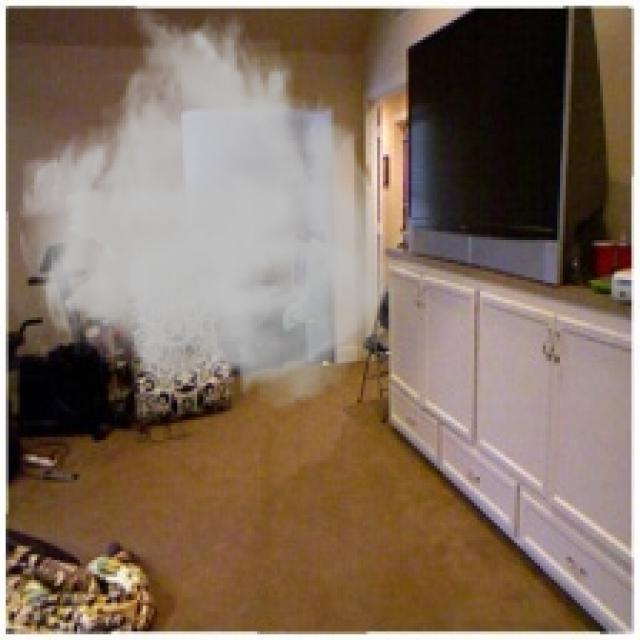smoke: (14, 0, 398, 412)
